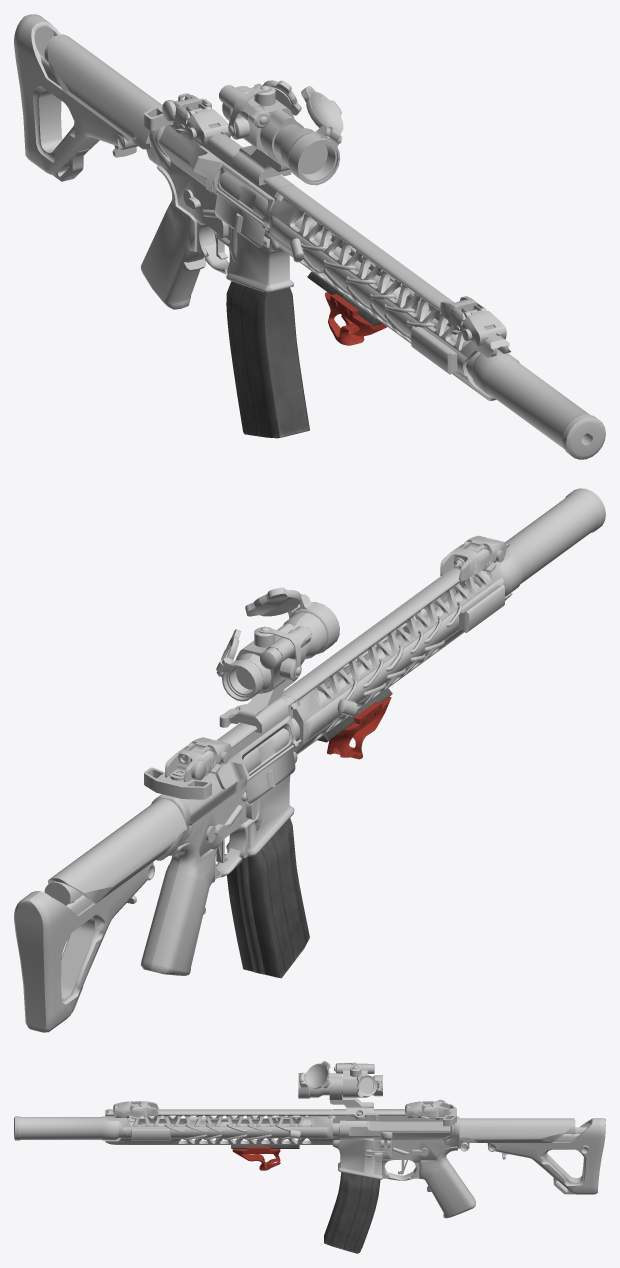
3 renders of one model, top to bottom at view 1: azimuth 30°, elevation 25°; view 2: azimuth 150°, elevation 25°; view 3: azimuth 270°, elevation 25°, orthographic. The views are drawn at different scales.
Parts seen in each view (by area): view 1: w_ar_m4_t3; view 2: w_ar_m4_t3; view 3: w_ar_m4_t3.
Part boxes in pixels (box(x1,y1,x2,y2)): w_ar_m4_t3: box(14, 14, 605, 459); w_ar_m4_t3: box(14, 488, 605, 1032); w_ar_m4_t3: box(14, 1061, 605, 1253).
Bounding box in the file's own units: 7.94 × 32.99 × 92.58.
